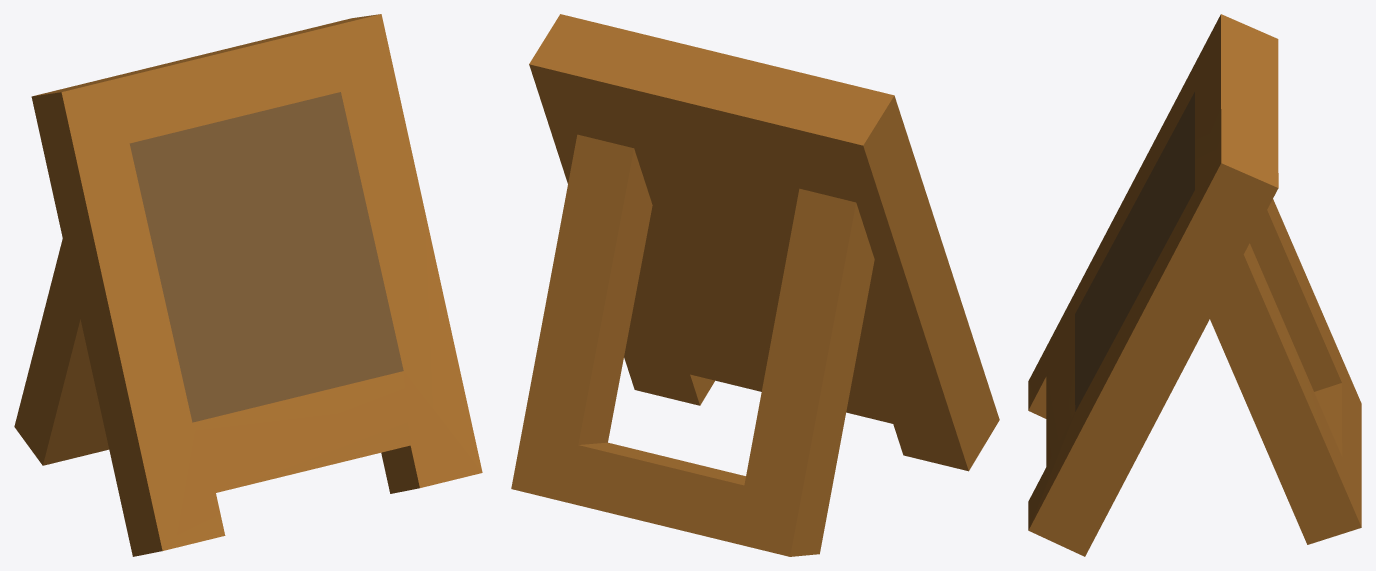
The model's file is platemenu_04.fbx.
3 renders of one model, left to right at view 1: azimuth 30°, elevation 25°; view 2: azimuth 150°, elevation 25°; view 3: azimuth 270°, elevation 25°, orthographic. The views are drawn at different scales.
Visible parts, largest first — view 1: platemenu_04; view 2: platemenu_04; view 3: platemenu_04.
Part boxes in pixels (<box>): platemenu_04: <box>14,14,482,556</box>; platemenu_04: <box>511,14,999,556</box>; platemenu_04: <box>1028,14,1361,556</box>.
Size of the model in its own units: 79.25 by 97.68 by 74.88.
